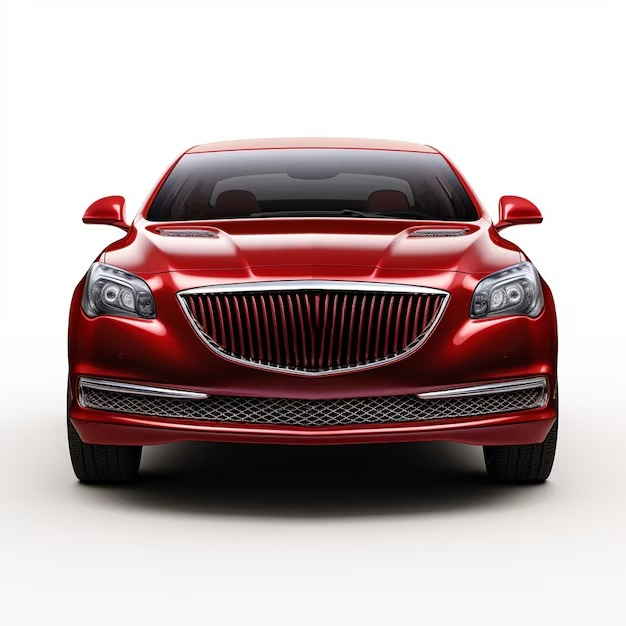car: (51, 143, 573, 466)
